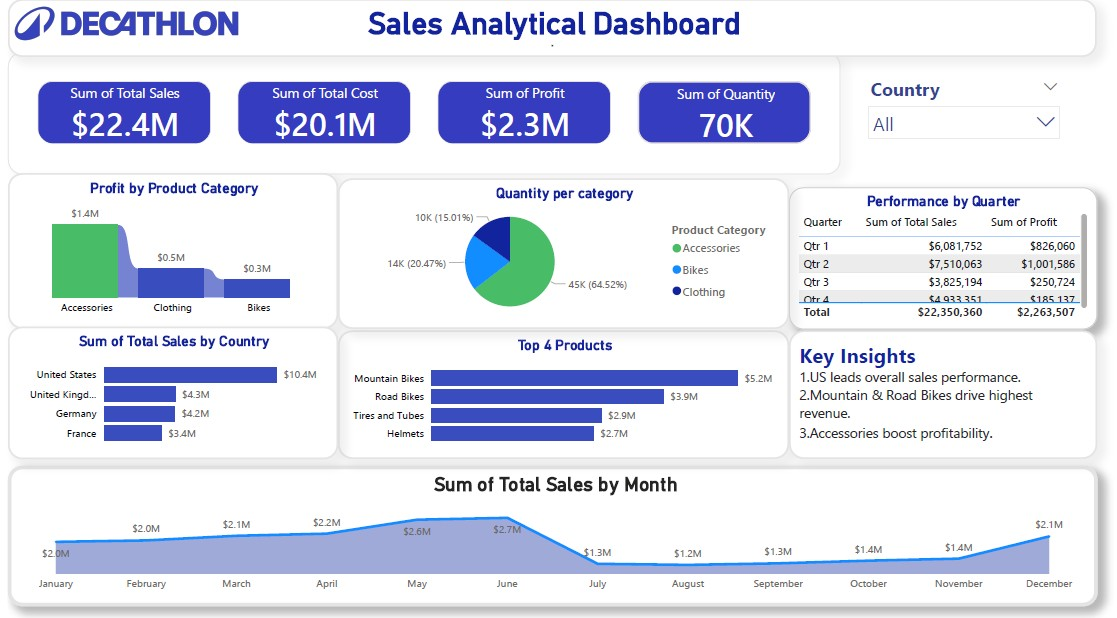

This screenshot's page, from the dashboard's own definition file:
{"tool":"powerbi","page":{"name":"Page 2","canvas":[1280,720],"ordinal":0},"visuals":[{"type":"cardVisual","fields":{"Data":["Sum(PQ Data.Total Sales)","Sum(PQ Data.Total Cost)","Sum(PQ Data.Profit)","Sum(PQ Data.Quantity)"]},"box":[0,68.1,978.2,143.8],"z":0},{"type":"slicer","fields":{"Values":["PQ Data.Country"]},"box":[993.6,85.2,259.3,92.7],"z":1000},{"type":"tableEx","title":"Performance by Quarter","fields":{"Values":["PQ Data.Date.Variation.Date Hierarchy.Quarter","Sum(PQ Data.Total Sales)","Sum(PQ Data.Profit)"]},"box":[917.6,227.1,361.9,166.6],"z":2000},{"type":"columnChart","title":"Profit by Product Category","fields":{"Y":["Sum(PQ Data.Profit)"],"Category":["PQ Data.Product Category"]},"box":[0,210.5,387.6,183.2],"z":3000},{"type":"lineChart","fields":{"Y":["Sum(PQ Data.Total Sales)"],"Category":["PQ Data.Date.Variation.Date Hierarchy.Month"]},"box":[0,554.2,1279.5,165],"z":4000},{"type":"clusteredBarChart","title":"Top 4 Products","fields":{"Category":["PQ Data.Sub Category"],"Y":["Sum(PQ Data.Total Sales)"]},"box":[387.6,395.2,530,151.4],"z":5000},{"type":"clusteredBarChart","fields":{"Y":["Sum(PQ Data.Total Sales)"],"Category":["PQ Data.Country"]},"box":[0,391.3,387.6,156],"z":6000},{"type":"textbox","box":[917.6,395.2,361.9,151.4],"z":7000},{"type":"pieChart","title":"Quantity per category","fields":{"Y":["Sum(PQ Data.Quantity)"],"Category":["PQ Data.Product Category"]},"box":[387.6,216.5,530,177.2],"z":8000},{"type":"clusteredBarChart","title":"Sales Analytical Dashboard","fields":{"Category":["PQ Data.Sub Category"]},"box":[0,5.7,1279.4,68.1],"z":9000},{"type":"image","box":[0,5.7,278.2,56.8],"z":10000}]}

Visuals, with their boxes in screenshot pixels (x1, y1, x2, y2), scaled from the page's 1280x720 canvas onto the 1117x618 screenshot:
cardVisual - Sum(PQ Data.Total Sales) x Sum(PQ Data.Total Cost): box(0, 58, 854, 182)
slicer - PQ Data.Country: box(867, 73, 1093, 153)
"Performance by Quarter" tableEx: box(801, 195, 1116, 338)
"Profit by Product Category" columnChart: box(0, 181, 338, 338)
lineChart - Sum(PQ Data.Total Sales) x PQ Data.Date.Variation.Date Hierarchy.Month: box(0, 476, 1116, 617)
"Top 4 Products" clusteredBarChart: box(338, 339, 801, 469)
clusteredBarChart - Sum(PQ Data.Total Sales) x PQ Data.Country: box(0, 336, 338, 470)
textbox: box(801, 339, 1116, 469)
"Quantity per category" pieChart: box(338, 186, 801, 338)
"Sales Analytical Dashboard" clusteredBarChart: box(0, 5, 1116, 63)
image: box(0, 5, 243, 54)
